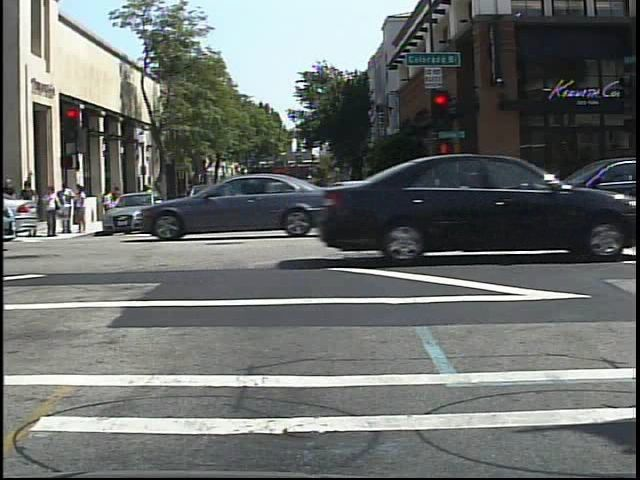person: (102, 186, 117, 224), (142, 181, 157, 213), (138, 181, 153, 211)
